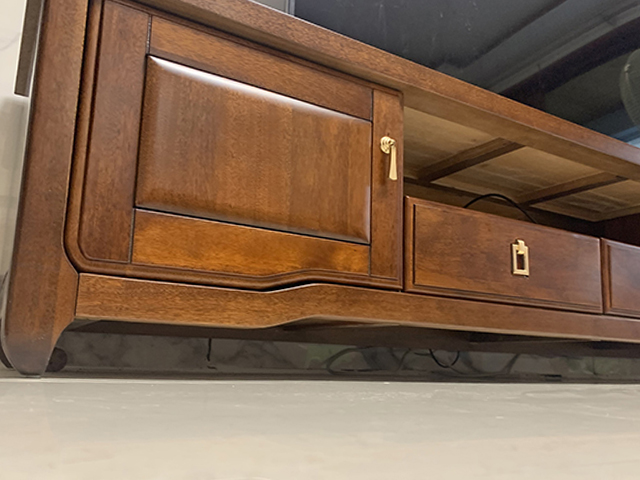cabinet: (1, 1, 640, 376)
